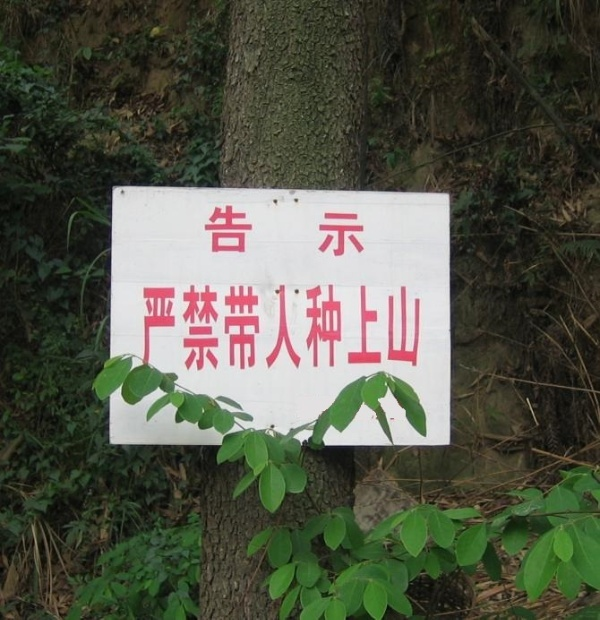text: (145, 285, 160, 370), (161, 285, 176, 370), (177, 285, 192, 370), (193, 285, 208, 370), (209, 285, 224, 370), (225, 285, 240, 370), (241, 285, 256, 370), (257, 285, 272, 370), (273, 285, 288, 370), (289, 285, 304, 370), (305, 285, 320, 370), (321, 285, 336, 370), (337, 285, 352, 370), (353, 285, 368, 370), (369, 285, 384, 370), (385, 285, 400, 370), (401, 285, 416, 370), (209, 205, 224, 258), (225, 205, 240, 258), (241, 205, 256, 258), (257, 205, 272, 258), (273, 205, 288, 258), (289, 205, 304, 258), (305, 205, 320, 258), (321, 205, 336, 258), (337, 205, 352, 258), (353, 205, 366, 258), (417, 285, 423, 370), (139, 285, 144, 370), (203, 205, 208, 258)
